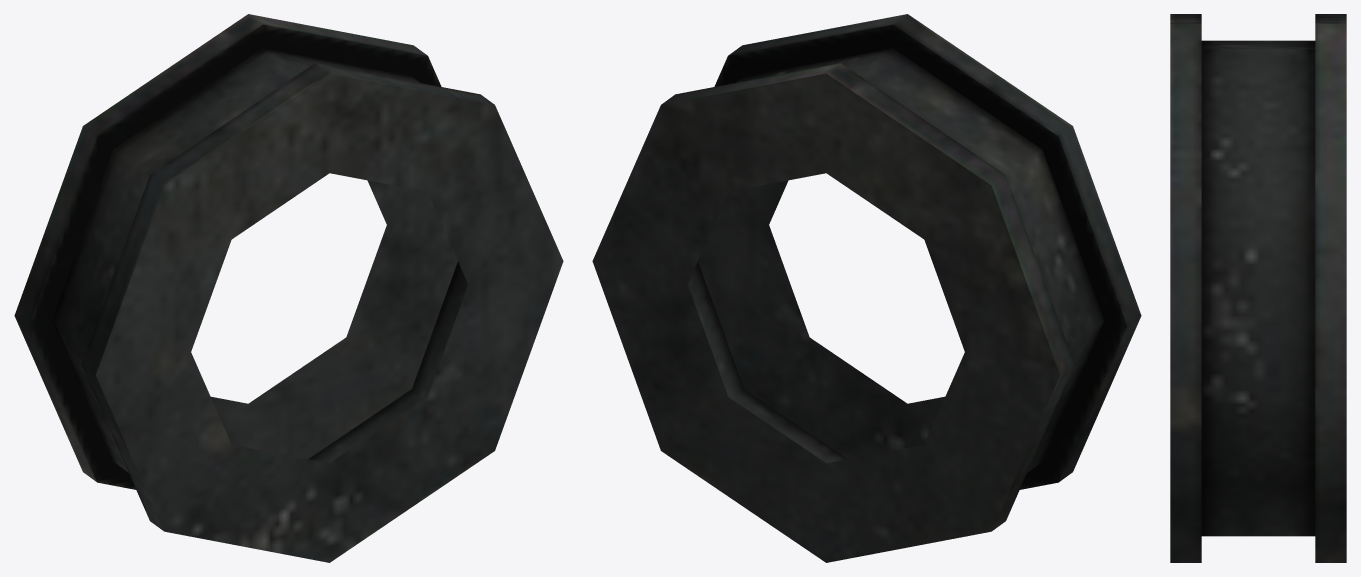
File: ThickMetal_Pipe_Connector.FBX
The picture shows the model from 3 angles, left to right: view 1: azimuth 30°, elevation 25°; view 2: azimuth 150°, elevation 25°; view 3: azimuth 270°, elevation 25°; orthographic projection. The views are drawn at different scales.
Parts seen in each view (by area): view 1: ThickMetal_Pipe_Connector; view 2: ThickMetal_Pipe_Connector; view 3: ThickMetal_Pipe_Connector.
Boxes of the visible parts, x1,y1,x2,y2 form: ThickMetal_Pipe_Connector: (14, 14, 563, 562); ThickMetal_Pipe_Connector: (592, 14, 1141, 562); ThickMetal_Pipe_Connector: (1170, 14, 1346, 562).
Bounding box in the file's own units: 65.05 × 65.05 × 19.6.
